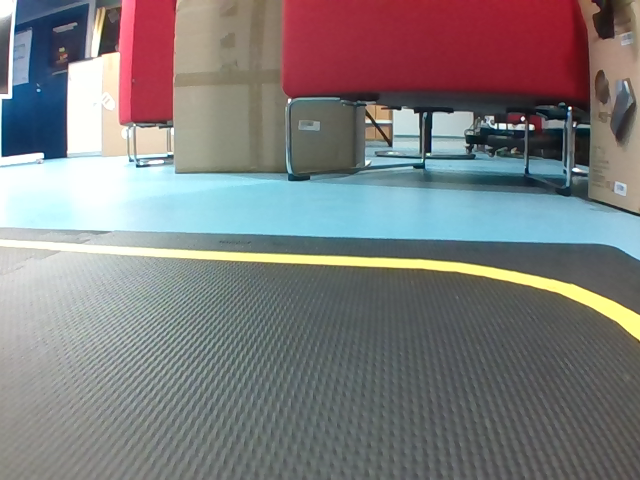30: (343, 92, 378, 124)
stop: (80, 103, 97, 138)
